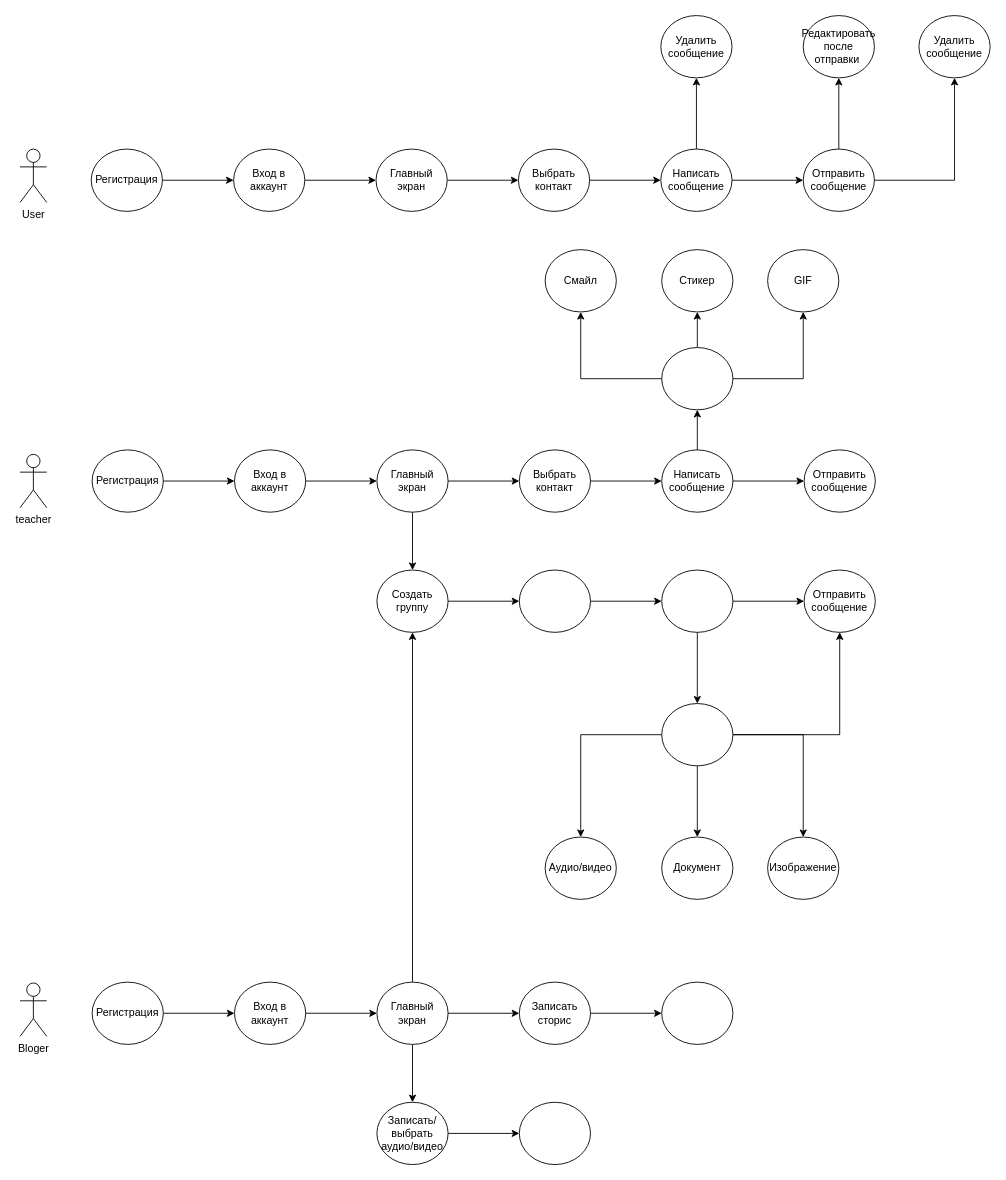
Some shapes in this 1006 by 1180 pixel diagram are drawn without their labels. The centre of each missing label's shape, as x and y in pixels:
Выбрать файл: pixel 697 734
Добавть эмодзи: pixel 697 378
Закреписть в группе/аккаунте: pixel 554 1133
Написать сообщение для группы: pixel 554 600
Отправить сторис: pixel 697 1012
Прикрепить файл: pixel 697 600
